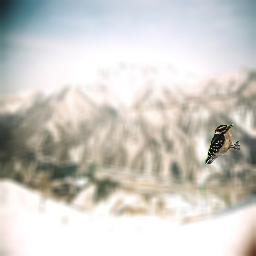Woodpecker: (205, 124, 240, 164)
